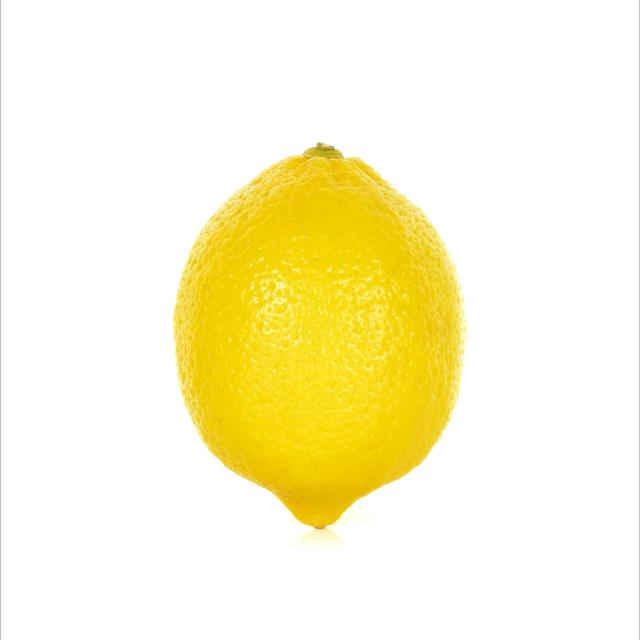lemon: (169, 136, 474, 536)
